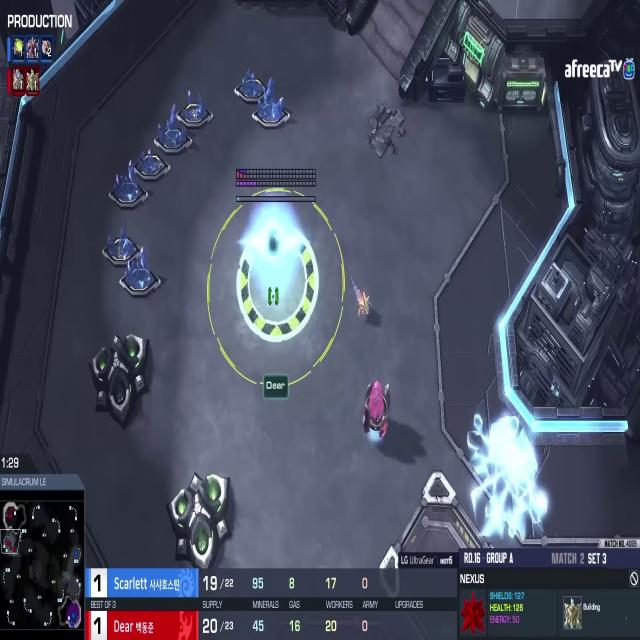probe: (352, 277, 375, 328)
